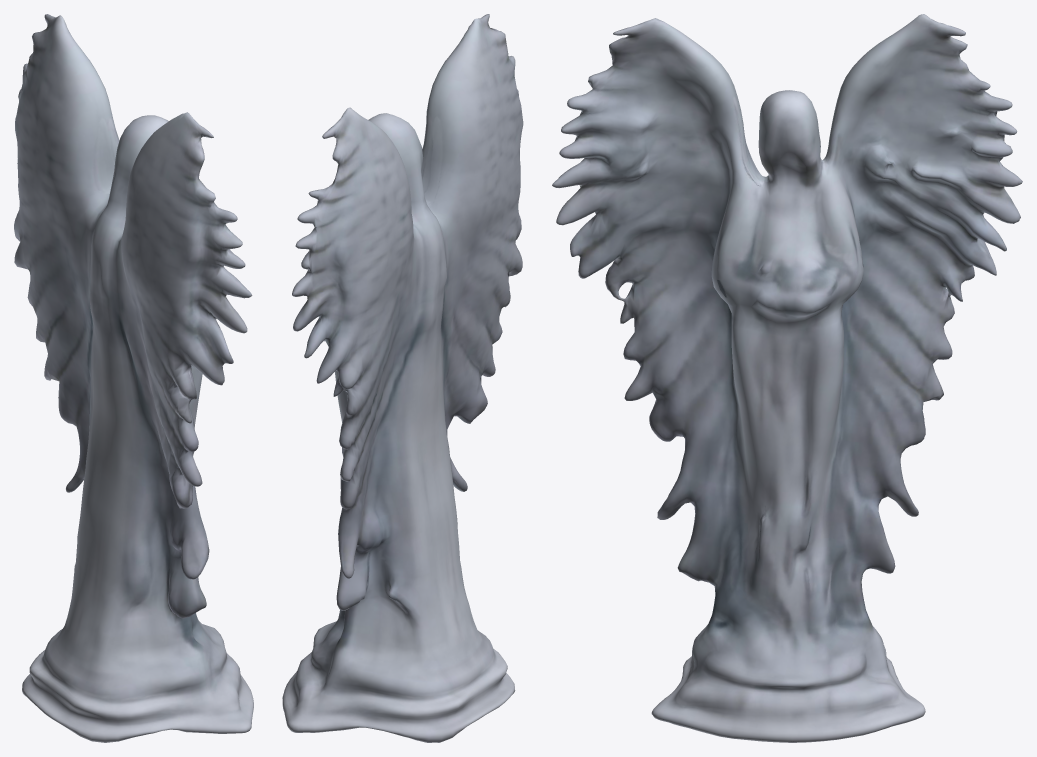
Rendered from 235657a8e4d7_f4be87900fa8_big_angel_wings_sta.glb.
3 renders of one model, left to right at view 1: azimuth 30°, elevation 25°; view 2: azimuth 150°, elevation 25°; view 3: azimuth 270°, elevation 25°, orthographic. The views are drawn at different scales.
Visible parts, largest first — view 1: mesh; view 2: mesh; view 3: mesh.
Boxes of the visible parts, left/top/right/bottom form: mesh: left=14, top=14, right=253, bottom=742; mesh: left=282, top=14, right=523, bottom=742; mesh: left=552, top=14, right=1022, bottom=742.
Bounding box in the file's own units: 0.3142 × 0.9994 × 0.6297.
1 material, 1 textured.
